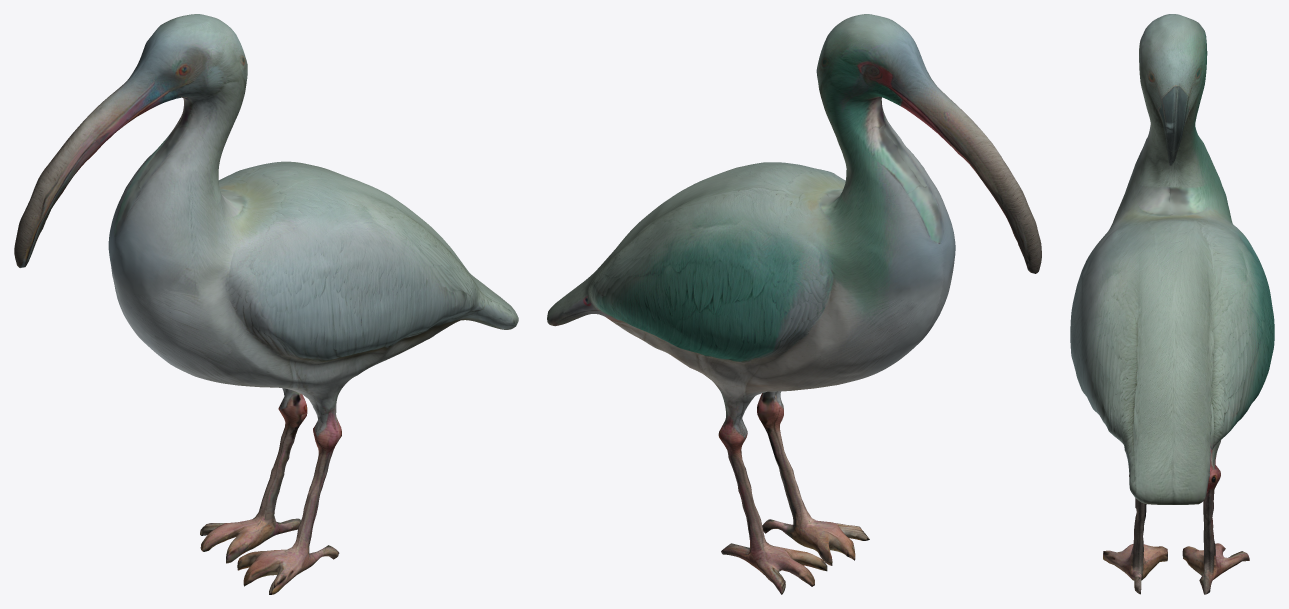
Rendered from A_realistic_skinny_ibis_with_a_long_and_tall_neck_0506195305_refine.fbx.
3 renders of one model, left to right at view 1: azimuth 30°, elevation 25°; view 2: azimuth 150°, elevation 25°; view 3: azimuth 270°, elevation 25°, orthographic. The views are drawn at different scales.
Visible parts, largest first — view 1: Mesh_0; view 2: Mesh_0; view 3: Mesh_0.
Boxes of the visible parts, <box> form: Mesh_0: <box>14,14,518,594</box>; Mesh_0: <box>547,14,1041,594</box>; Mesh_0: <box>1070,14,1274,594</box>.
Bounding box in the file's own units: 109 × 120 × 42.5.
Materials: 1 (1 with a texture image).
